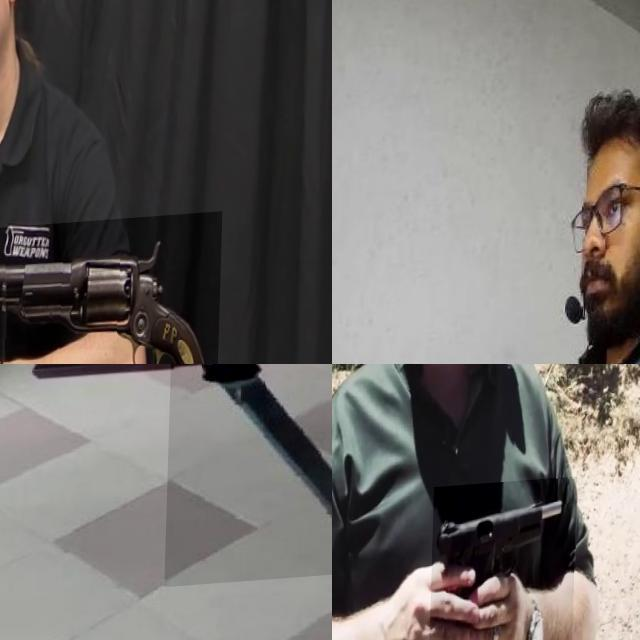-: (167, 364, 332, 590)
gun-knife-thesis - v11 Yolov5 augmented: (0, 218, 224, 364), (432, 483, 580, 640)
